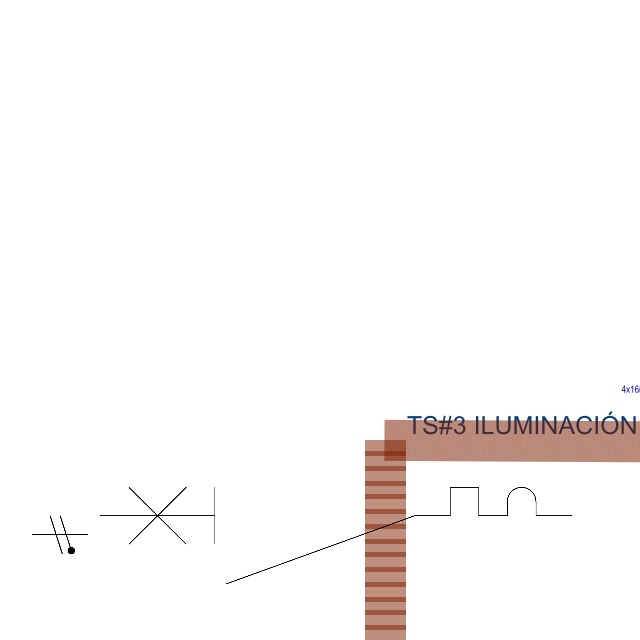interruptor_termomagnetico: (88, 475, 584, 596)
